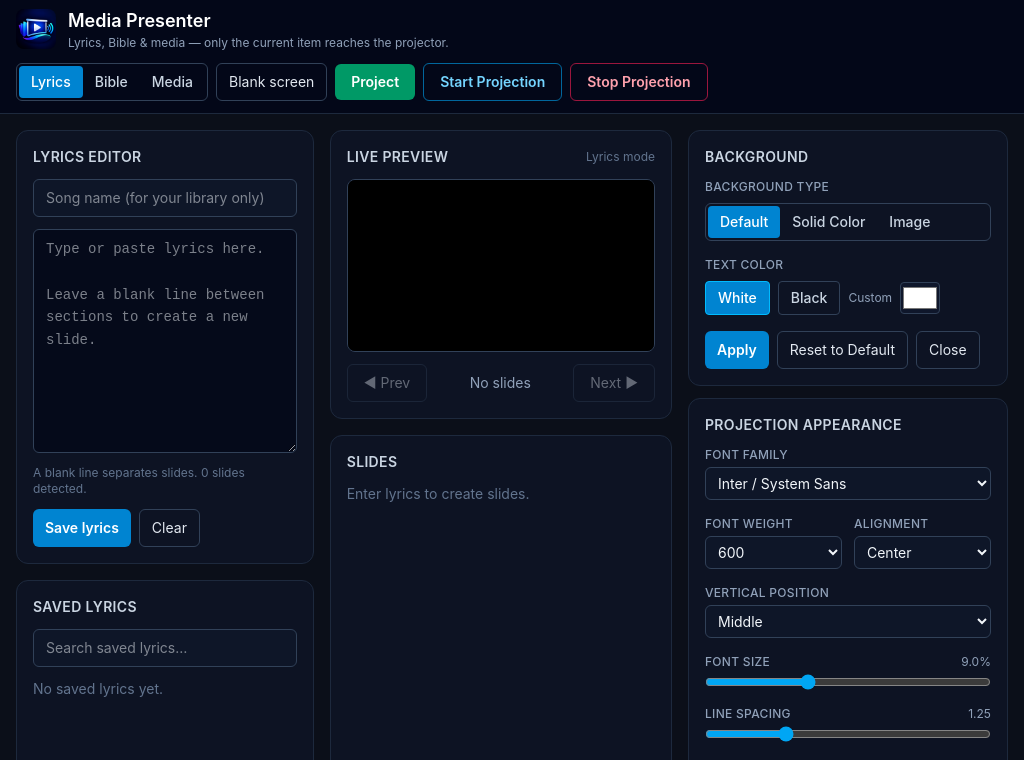
Test: Operator › allows toggling verse numbers for Bible slides
Expected: the text "No saved lyrics yet." is shown, [33, 680, 163, 697]
Click the button "Bible".
click(111, 82)  # box [83, 66, 140, 98]
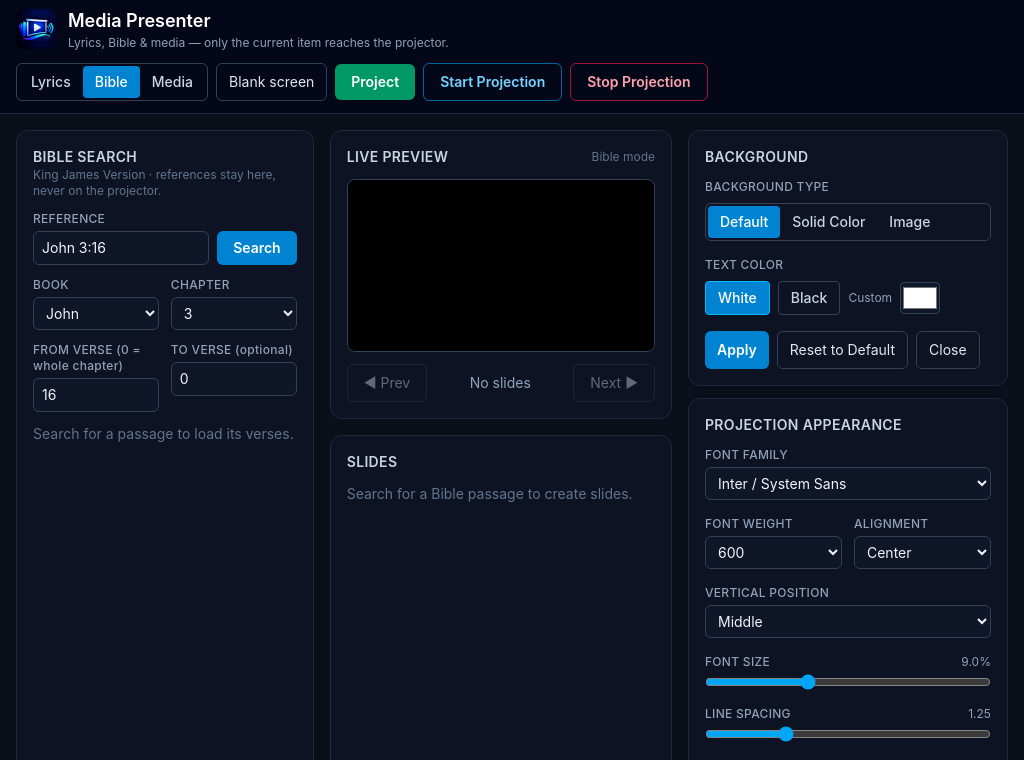
Click the button "Search".
click(257, 248)  # box [217, 231, 297, 265]
(page scrolled)
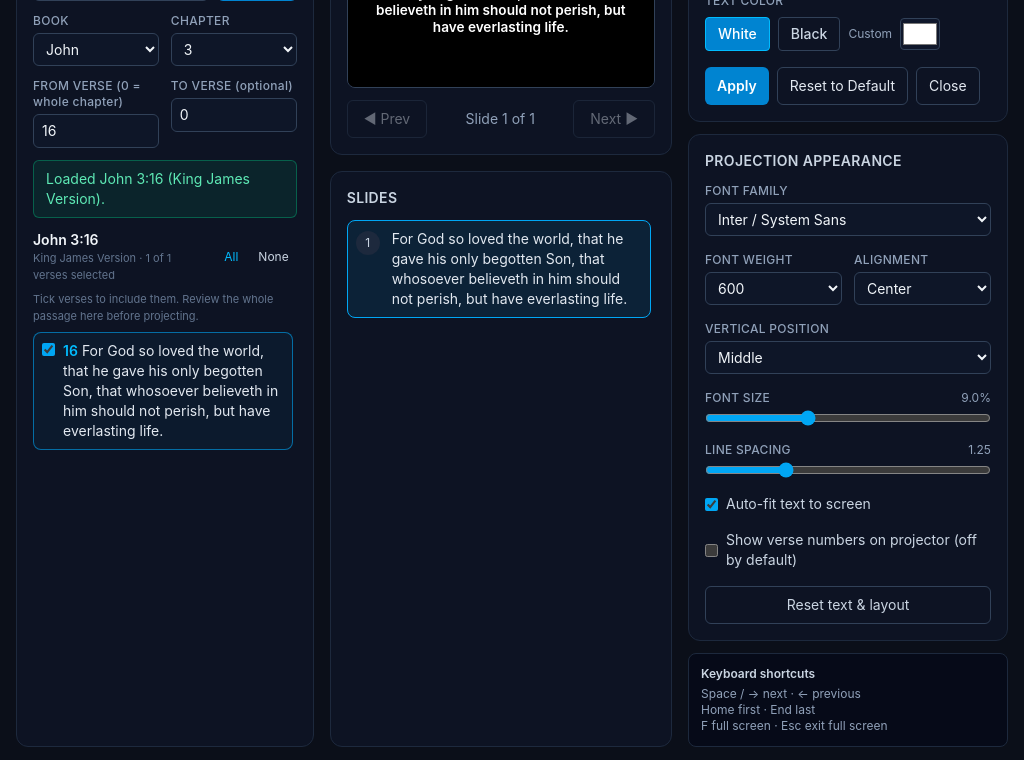
Click the checkbox labelled "Show verse numbers on projector (off by default)".
click(712, 550)  # box [705, 544, 718, 556]
(page scrolled)
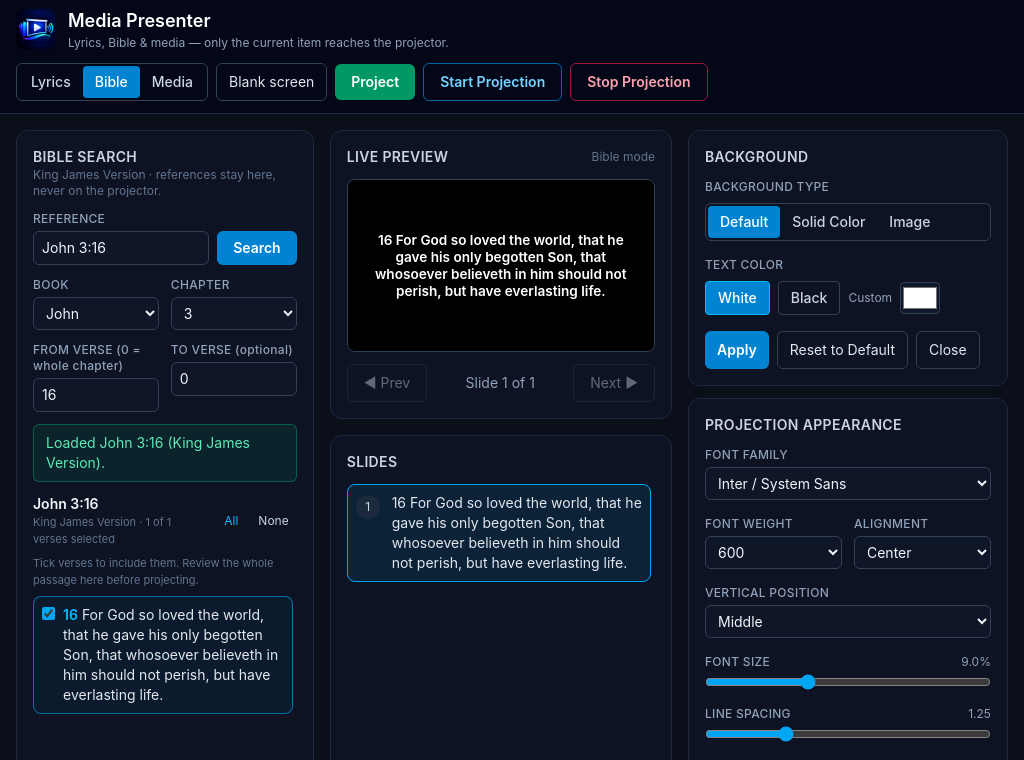
Expected: the text "16 For God so loved the world" below "Live preview" is shown, [375, 232, 630, 299]
